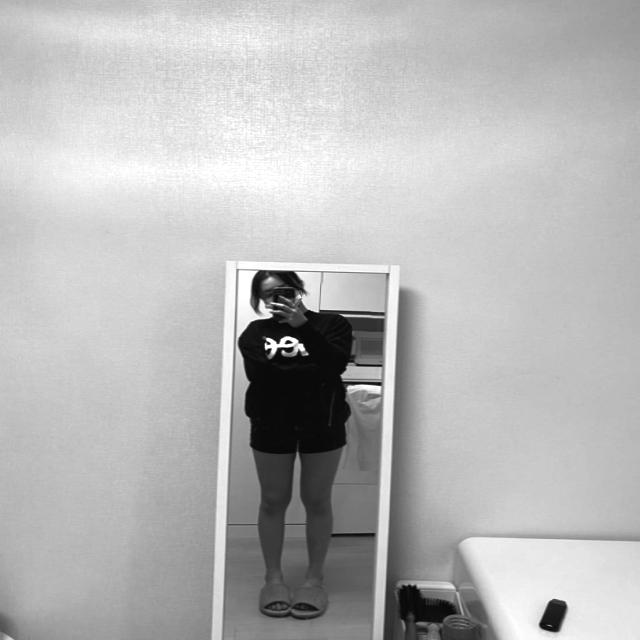mtm: (235, 309, 355, 418)
shortpants: (248, 410, 350, 460)
